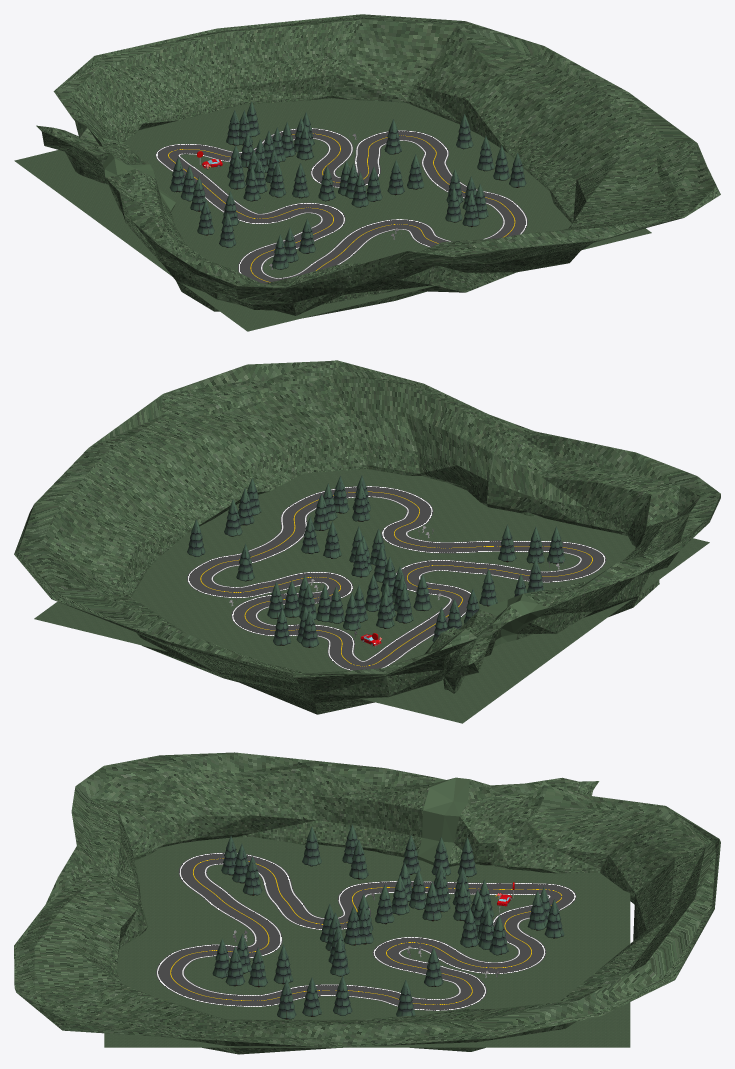
3 views of the same model, one above another, from view 1: azimuth 30°, elevation 25°; view 2: azimuth 150°, elevation 25°; view 3: azimuth 270°, elevation 25° (orthographic). The views are drawn at different scales.
Parts seen in each view (by area): view 1: Cube, Plane.001, Plane; view 2: Cube, Plane.001, Plane; view 3: Cube, Plane.001, Plane, PineTree_001.035, PineTree_001.039, PineTree_001.044, PineTree_001.028, PineTree_001.013, PineTree_001.025, PineTree_001.004, PineTree_001.029, PineTree_001.036 (+5 smaller).
Boxes of the visible parts, x1,y1,x2,y2 form: Cube: [36, 14, 720, 318]; Plane.001: [14, 98, 651, 331]; Plane: [155, 128, 527, 283]; Cube: [14, 360, 720, 714]; Plane.001: [34, 469, 709, 723]; Plane: [187, 486, 606, 670]; Cube: [14, 752, 720, 1054]; Plane.001: [104, 837, 630, 1047]; Plane: [156, 852, 576, 1010]; PineTree_001.035: [349, 839, 368, 879]; PineTree_001.039: [277, 979, 296, 1019]; PineTree_001.044: [243, 856, 262, 895]; PineTree_001.028: [248, 947, 267, 987]; PineTree_001.013: [422, 881, 441, 921]; PineTree_001.025: [424, 947, 443, 986]; PineTree_001.004: [460, 908, 479, 947]; PineTree_001.029: [225, 946, 245, 986]; PineTree_001.036: [302, 826, 321, 866].
Size of the model in its own units: 620 by 81.07 by 650.
Materials: 30 (21 with a texture image).
